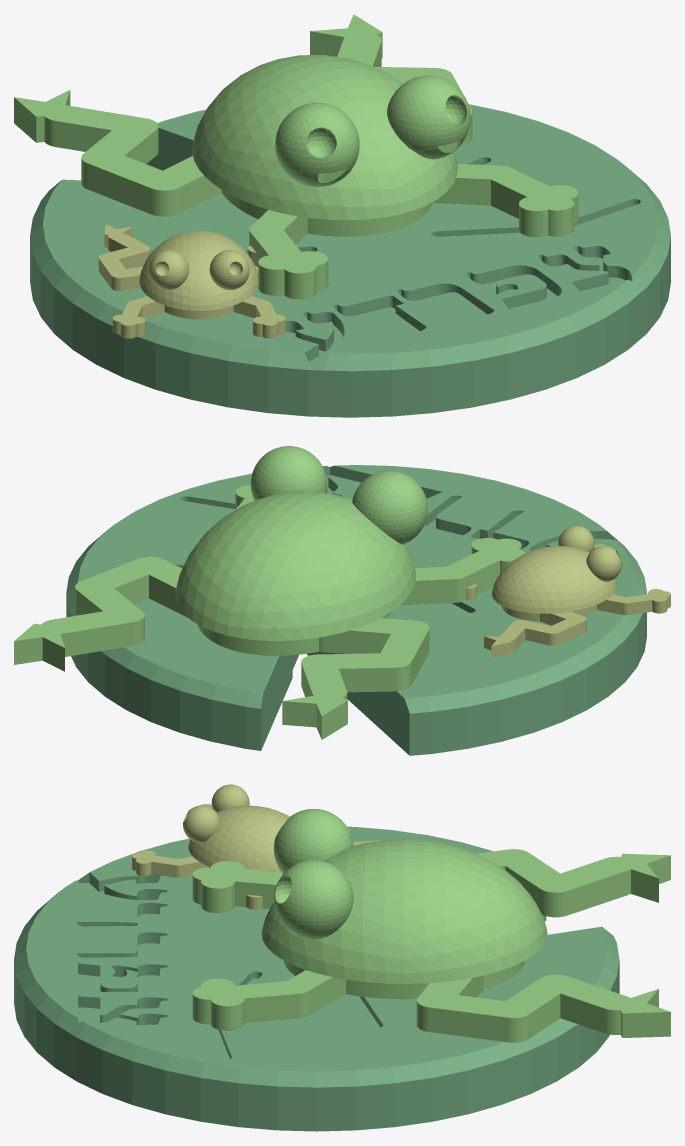
File: frogs.glb
3 views of the same model, one above another, from view 1: azimuth 30°, elevation 25°; view 2: azimuth 150°, elevation 25°; view 3: azimuth 270°, elevation 25° (orthographic). The views are drawn at different scales.
Parts seen in each view (by area): view 1: stage, body, legs, baby; view 2: stage, body, legs, baby; view 3: stage, body, legs, baby.
Part boxes in pixels (left/top/right/bottom): stage: left=30, top=104, right=670, bottom=417; body: left=192, top=55, right=470, bottom=220; legs: left=14, top=14, right=578, bottom=299; baby: left=98, top=224, right=294, bottom=338; stage: left=66, top=465, right=646, bottom=755; body: left=175, top=446, right=427, bottom=640; legs: left=14, top=485, right=525, bottom=739; baby: left=466, top=525, right=670, bottom=657; stage: left=14, top=826, right=619, bottom=1131; body: left=261, top=808, right=547, bottom=983; legs: left=192, top=849, right=670, bottom=1042; baby: left=132, top=784, right=381, bottom=909.
Size of the model in its own units: 40.83 by 12.76 by 43.4.
